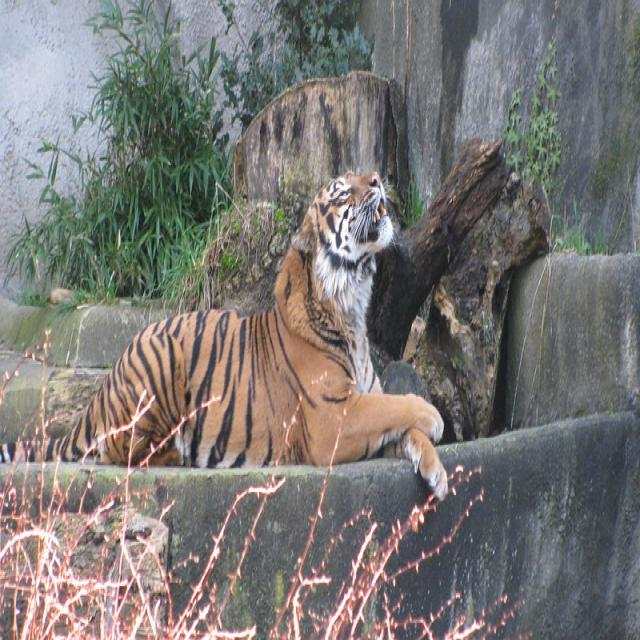Tiger: (0, 162, 449, 502)
